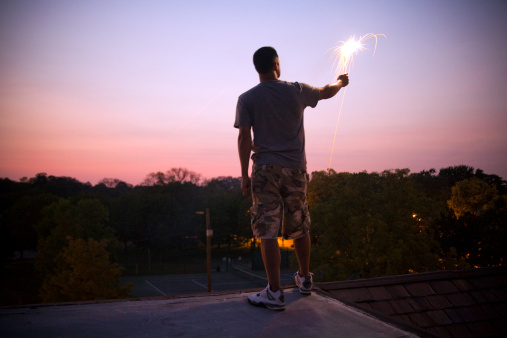em pe: (233, 34, 344, 292)
